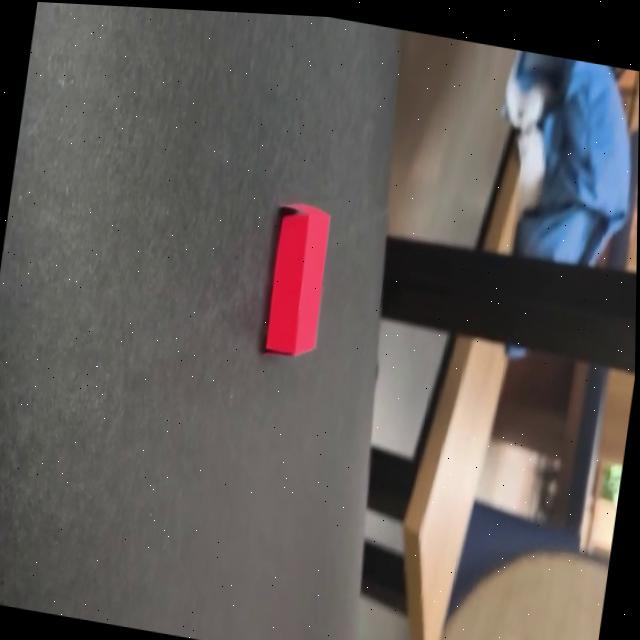red block: (259, 198, 336, 363)
